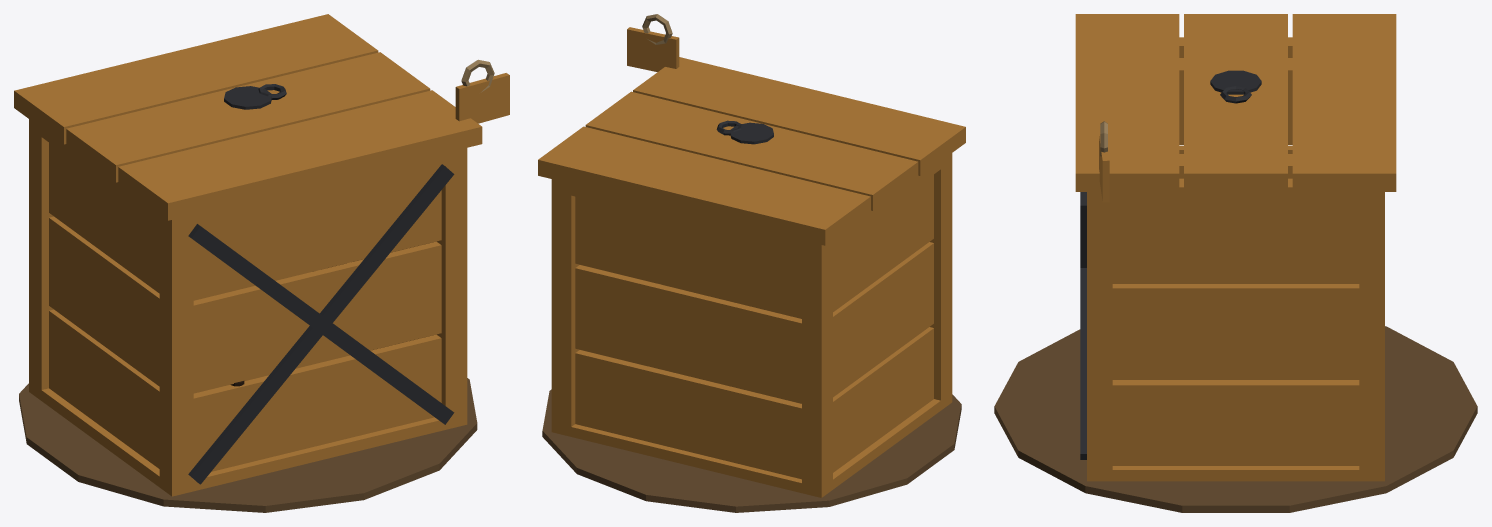
File: SM_Crate_Tavern_02_Closed.glb
The picture shows the model from 3 angles, left to right: view 1: azimuth 30°, elevation 25°; view 2: azimuth 150°, elevation 25°; view 3: azimuth 270°, elevation 25°; orthographic projection. The views are drawn at different scales.
Visible parts, largest first — view 1: SM_Crate_Tavern_02_Closed_Panels, SM_Crate_Tavern_02_Closed_Lid, SM_Crate_Tavern_02_Closed_Frame, SM_Crate_Tavern_02_Closed_DirtRing, SM_Crate_Tavern_02_Closed_BraceA, SM_Crate_Tavern_02_Closed_BraceB, SM_Crate_Tavern_02_Closed_Sign, SM_Crate_Tavern_02_Closed_LidMotif; view 2: SM_Crate_Tavern_02_Closed_Panels, SM_Crate_Tavern_02_Closed_Lid, SM_Crate_Tavern_02_Closed_Frame, SM_Crate_Tavern_02_Closed_DirtRing, SM_Crate_Tavern_02_Closed_Sign, SM_Crate_Tavern_02_Closed_LidMotif; view 3: SM_Crate_Tavern_02_Closed_Panels, SM_Crate_Tavern_02_Closed_Lid, SM_Crate_Tavern_02_Closed_DirtRing, SM_Crate_Tavern_02_Closed_Frame, SM_Crate_Tavern_02_Closed_BraceB, SM_Crate_Tavern_02_Closed_LidMotif, SM_Crate_Tavern_02_Closed_Sign.
Boxes of the visible parts, left/top/right/bottom form: SM_Crate_Tavern_02_Closed_Panels: left=49, top=143, right=441, bottom=471; SM_Crate_Tavern_02_Closed_Lid: left=14, top=14, right=482, bottom=220; SM_Crate_Tavern_02_Closed_Frame: left=29, top=119, right=467, bottom=496; SM_Crate_Tavern_02_Closed_DirtRing: left=19, top=378, right=477, bottom=512; SM_Crate_Tavern_02_Closed_BraceA: left=188, top=164, right=454, bottom=484; SM_Crate_Tavern_02_Closed_BraceB: left=188, top=224, right=454, bottom=424; SM_Crate_Tavern_02_Closed_Sign: left=455, top=73, right=509, bottom=123; SM_Crate_Tavern_02_Closed_LidMotif: left=224, top=86, right=271, bottom=109; SM_Crate_Tavern_02_Closed_Panels: left=575, top=174, right=933, bottom=479; SM_Crate_Tavern_02_Closed_Lid: left=538, top=57, right=965, bottom=245; SM_Crate_Tavern_02_Closed_Frame: left=551, top=153, right=952, bottom=497; SM_Crate_Tavern_02_Closed_DirtRing: left=542, top=389, right=961, bottom=512; SM_Crate_Tavern_02_Closed_Sign: left=627, top=27, right=679, bottom=71; SM_Crate_Tavern_02_Closed_LidMotif: left=730, top=122, right=773, bottom=144; SM_Crate_Tavern_02_Closed_Panels: left=1112, top=84, right=1359, bottom=465; SM_Crate_Tavern_02_Closed_Lid: left=1075, top=14, right=1396, bottom=191; SM_Crate_Tavern_02_Closed_DirtRing: left=994, top=326, right=1477, bottom=512; SM_Crate_Tavern_02_Closed_Frame: left=1087, top=37, right=1384, bottom=481; SM_Crate_Tavern_02_Closed_BraceB: left=1080, top=268, right=1086, bottom=459; SM_Crate_Tavern_02_Closed_LidMotif: left=1210, top=70, right=1261, bottom=94; SM_Crate_Tavern_02_Closed_Sign: left=1099, top=134, right=1109, bottom=202.
Bounding box in the file's own units: 0.8263 × 0.725 × 0.8432.
